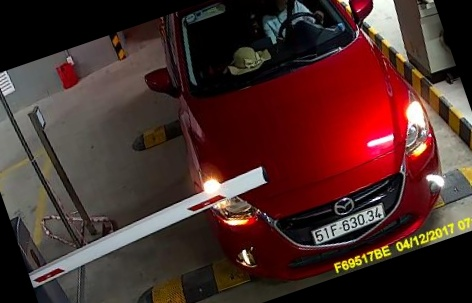plate: (299, 194, 399, 243)
